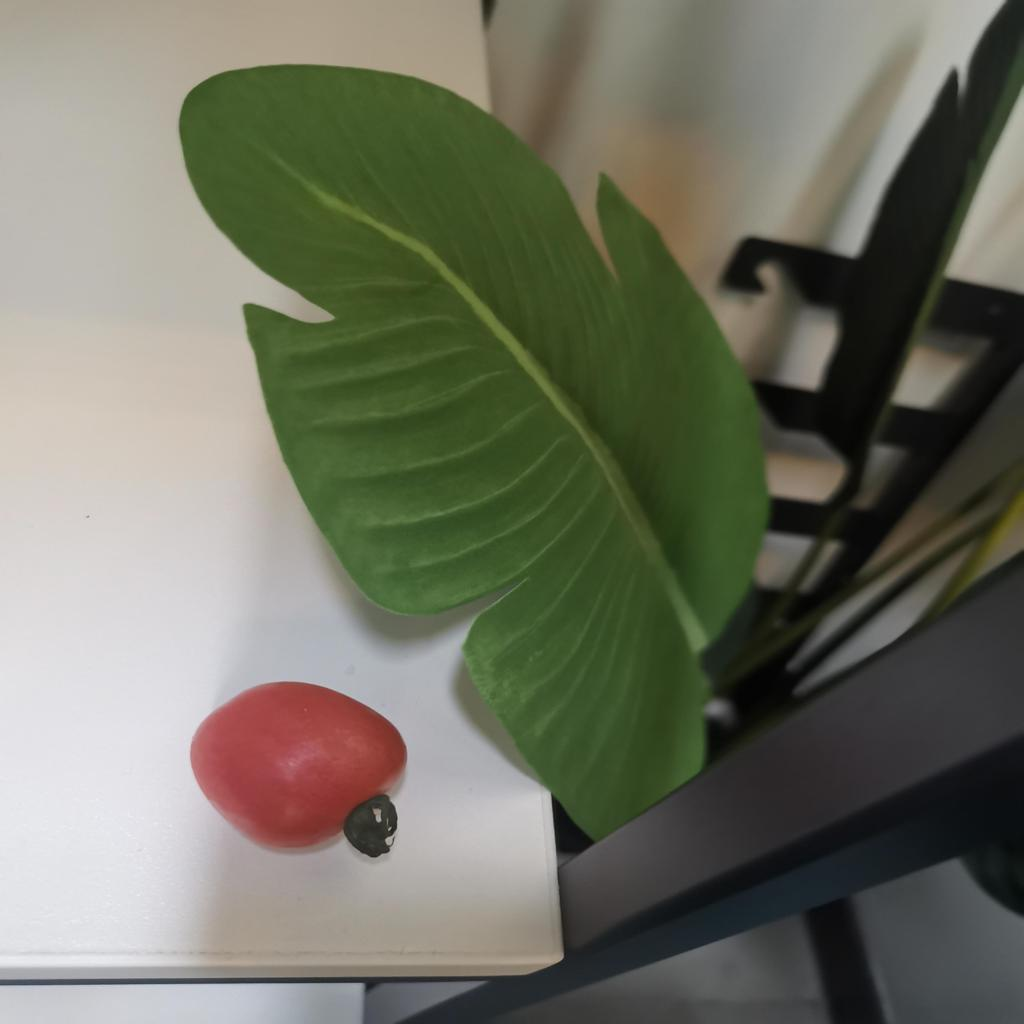tomato: (175, 680, 420, 857)
